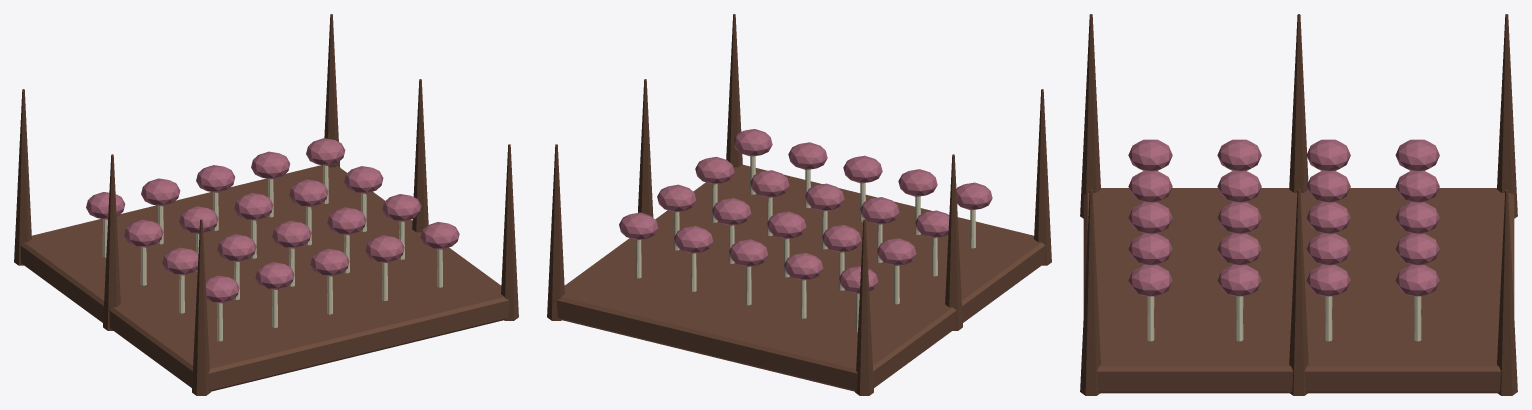
File: goblin_farm.glb
3 renders of one model, left to right at view 1: azimuth 30°, elevation 25°; view 2: azimuth 150°, elevation 25°; view 3: azimuth 270°, elevation 25°, orthographic. The views are drawn at different scales.
Visible parts, largest first — view 1: Geometry, CropPlants; view 2: Geometry, CropPlants; view 3: Geometry, CropPlants.
Part boxes in pixels (x1,y1,x2,y2): Geometry: [14, 14, 518, 395]; CropPlants: [86, 138, 459, 341]; Geometry: [547, 14, 1051, 395]; CropPlants: [619, 129, 992, 331]; Geometry: [1080, 14, 1517, 395]; CropPlants: [1128, 139, 1439, 341].
Size of the model in its own units: 2.93 by 1.5 by 2.95.
